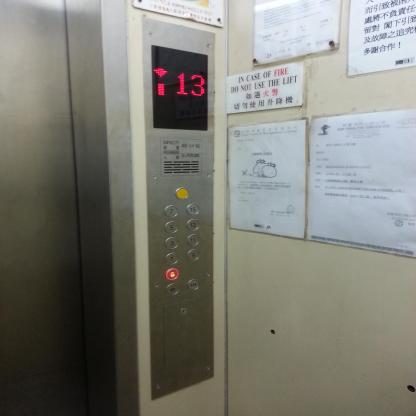1: (164, 251, 179, 266)
11: (186, 233, 200, 246)
13: (185, 218, 200, 232)
15: (185, 202, 199, 216)
3: (164, 236, 178, 250)
5: (164, 220, 178, 235)
7: (163, 204, 178, 218)
9: (186, 249, 200, 262)
G: (164, 267, 180, 281)
alarm: (174, 186, 189, 200)
close: (186, 278, 199, 290)
led: (150, 42, 209, 132)
open: (165, 282, 179, 296)
